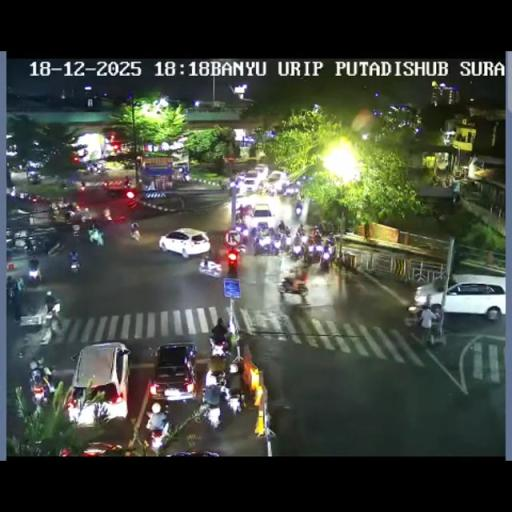Car: (68, 342, 130, 426), (413, 274, 505, 320), (148, 342, 198, 403), (158, 227, 210, 258), (250, 202, 275, 228), (80, 441, 126, 455), (236, 170, 262, 194), (265, 170, 288, 194), (103, 178, 133, 196), (253, 164, 269, 178), (27, 171, 41, 184)
Motorcycle: (233, 213, 340, 291), (144, 404, 170, 450), (29, 368, 52, 406), (203, 366, 228, 396), (278, 274, 308, 298), (335, 258, 360, 286), (44, 290, 61, 330), (254, 228, 278, 254), (202, 401, 222, 429), (198, 256, 223, 278), (226, 387, 244, 416), (208, 336, 229, 358), (428, 323, 446, 348), (404, 305, 422, 327), (39, 321, 54, 344), (306, 243, 322, 264), (26, 236, 44, 254), (88, 226, 104, 246), (6, 282, 20, 304), (318, 251, 332, 272), (428, 303, 442, 324), (68, 252, 81, 274), (28, 267, 42, 286), (290, 241, 304, 259), (282, 183, 298, 198), (78, 207, 92, 223), (18, 190, 36, 202), (317, 220, 332, 234), (234, 242, 248, 256), (324, 234, 335, 249), (234, 212, 245, 226), (130, 227, 140, 242), (312, 230, 322, 244), (242, 204, 252, 218), (228, 178, 238, 192), (71, 222, 80, 237), (146, 346, 157, 358), (63, 210, 73, 223), (239, 226, 249, 238), (96, 161, 106, 173), (228, 362, 238, 374), (103, 208, 112, 221), (452, 191, 461, 204), (86, 162, 97, 172), (6, 246, 12, 264), (250, 226, 258, 239), (297, 224, 305, 237), (181, 172, 190, 182), (258, 185, 267, 195), (220, 180, 227, 192), (295, 204, 302, 216), (282, 226, 290, 236), (300, 234, 308, 244), (78, 183, 86, 192), (60, 180, 67, 190), (10, 186, 16, 197), (297, 190, 302, 202)
